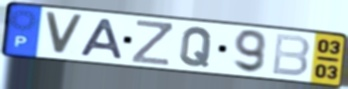9: (231, 29, 269, 75)
A: (78, 17, 126, 61)
B: (269, 32, 312, 79)
Q: (177, 25, 215, 68)
V: (42, 10, 86, 58)
Z: (130, 18, 174, 67)
